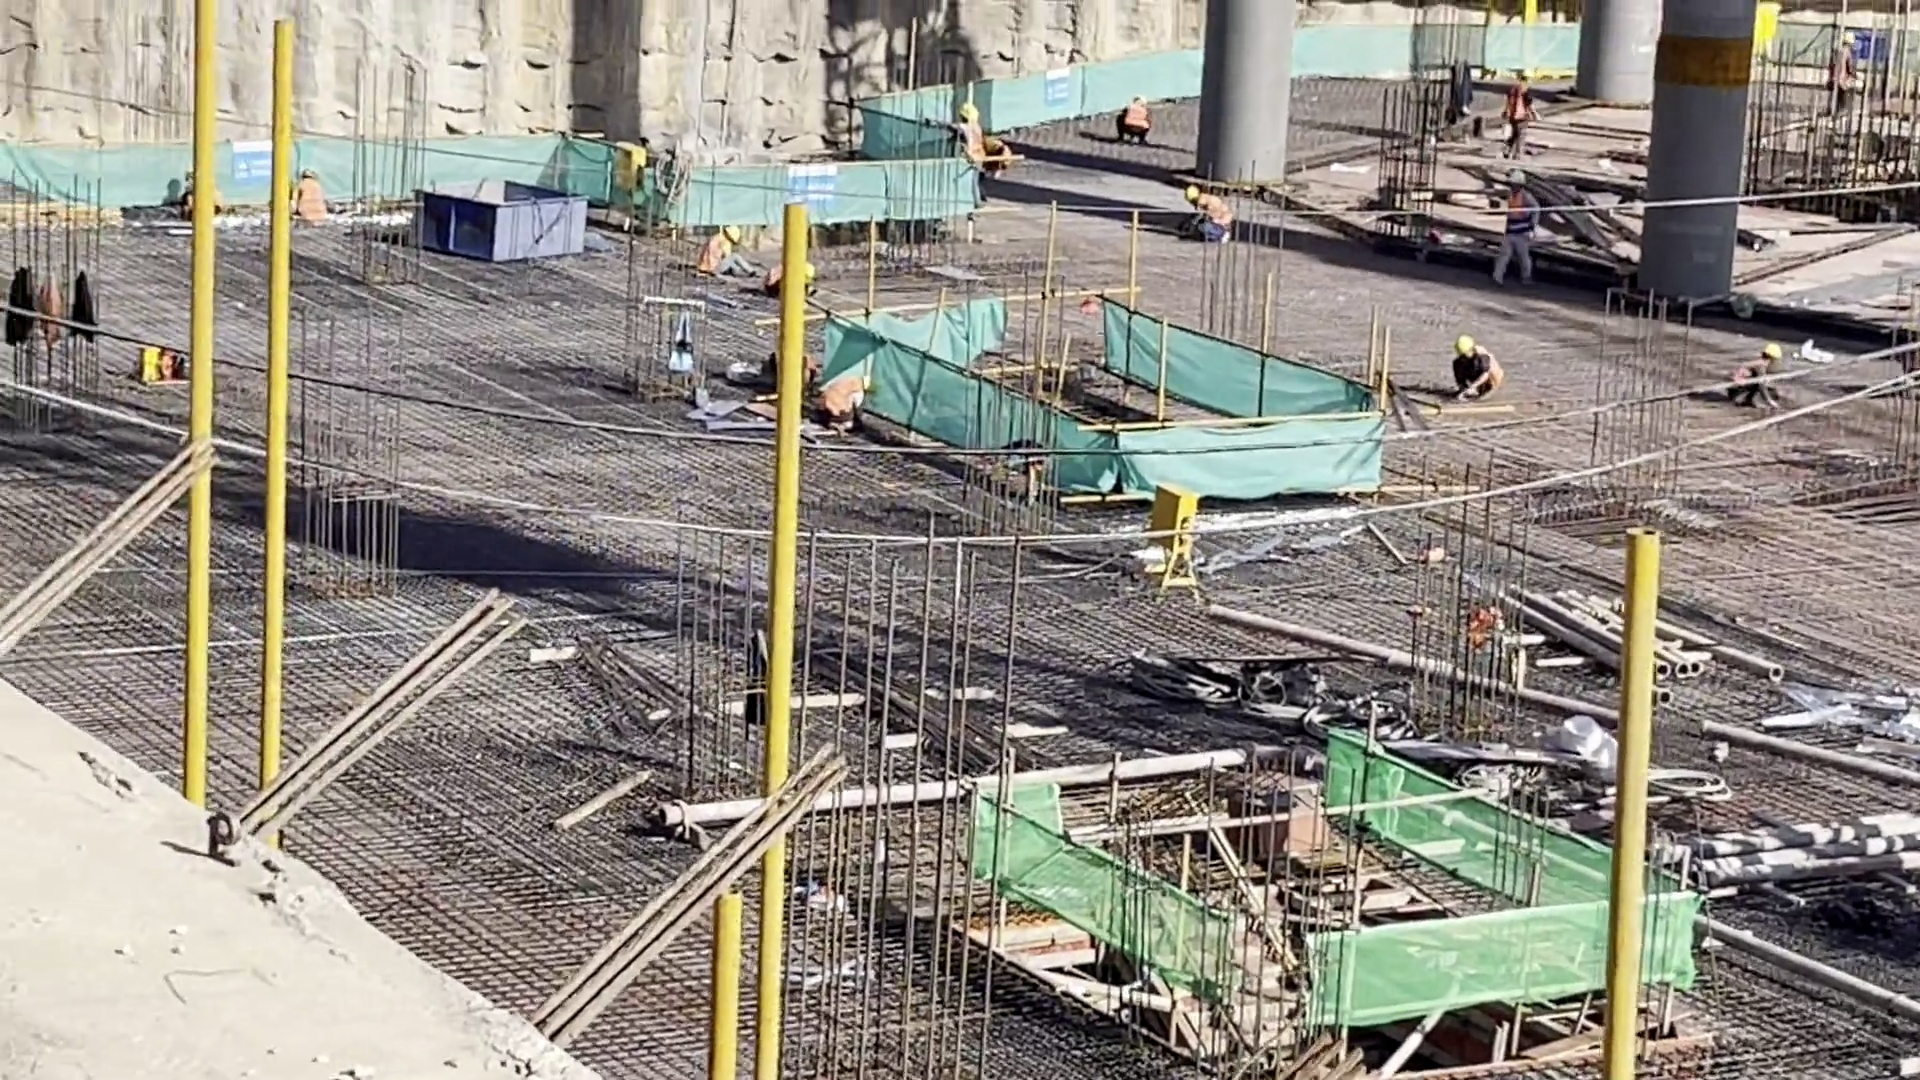helmet: (958, 104, 978, 119), (1458, 334, 1476, 350), (1509, 169, 1524, 186), (1763, 343, 1781, 357), (722, 227, 740, 240), (1514, 66, 1532, 78), (1183, 187, 1199, 199), (1841, 30, 1854, 42)
person: (1499, 169, 1537, 294), (1446, 333, 1509, 399), (1182, 185, 1236, 245), (1728, 346, 1779, 407), (1504, 66, 1538, 162), (698, 227, 754, 277), (292, 168, 335, 220), (1119, 96, 1151, 143)
vest: (829, 374, 865, 415), (697, 237, 728, 276), (298, 181, 323, 224), (1197, 192, 1232, 224), (1506, 84, 1532, 124), (1123, 104, 1154, 134), (1508, 196, 1531, 231)
